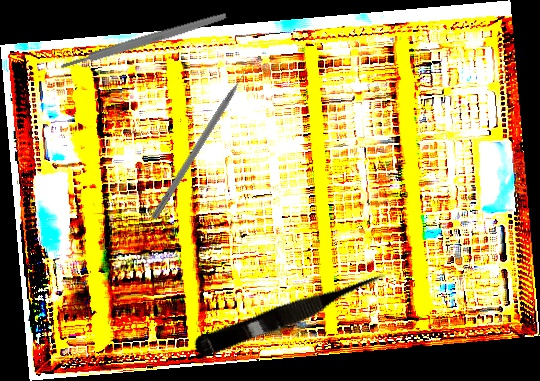Chopper: (150, 60, 262, 227)
Micro Scissor: (191, 264, 395, 365)
Scalpel Handle: (59, 10, 228, 72)
